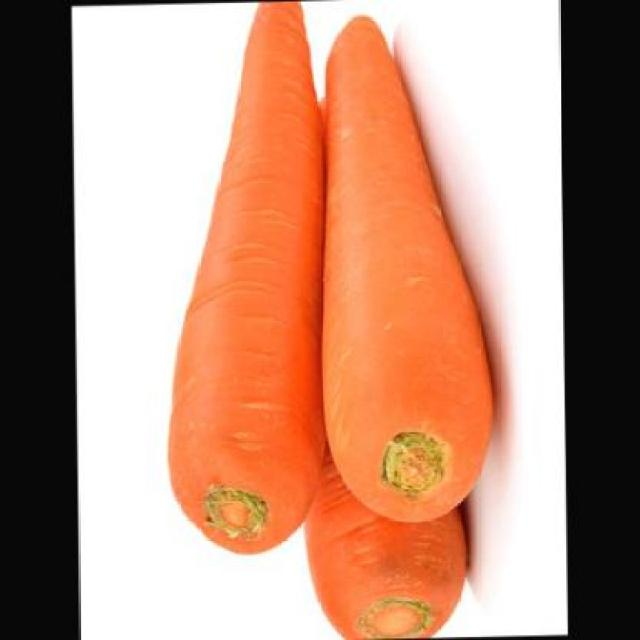carrot: (160, 0, 337, 554), (327, 8, 496, 523), (299, 436, 470, 639)
